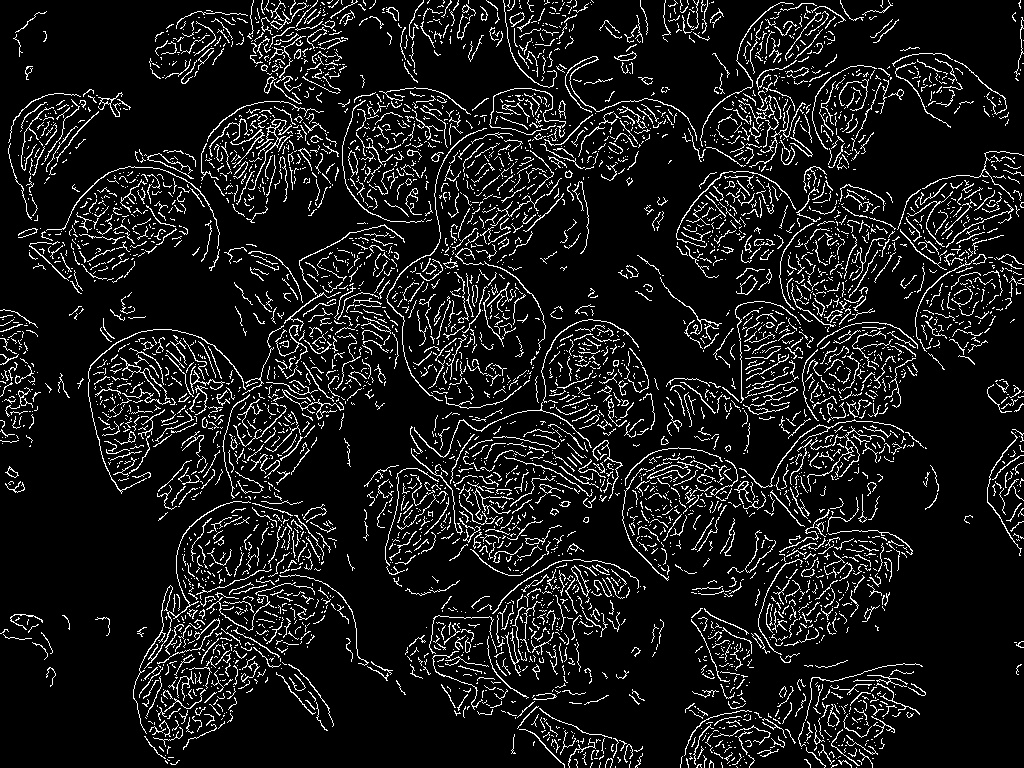red_onion: (61, 154, 218, 325), (484, 561, 652, 711), (632, 452, 795, 602), (432, 125, 579, 279), (402, 259, 541, 416), (786, 209, 929, 343)
